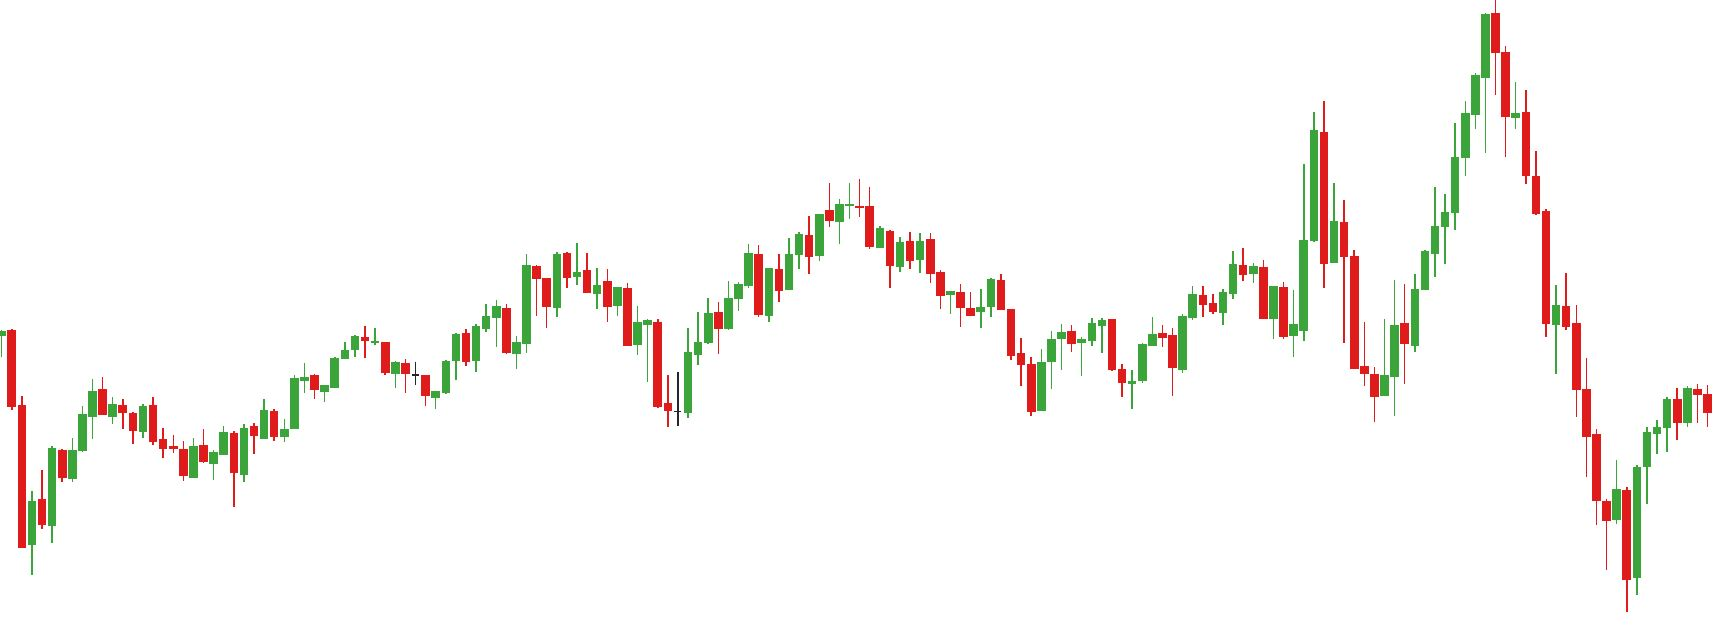buy: (1287, 230, 1401, 430), (178, 423, 249, 515)
sell: (1307, 2, 1512, 214)
